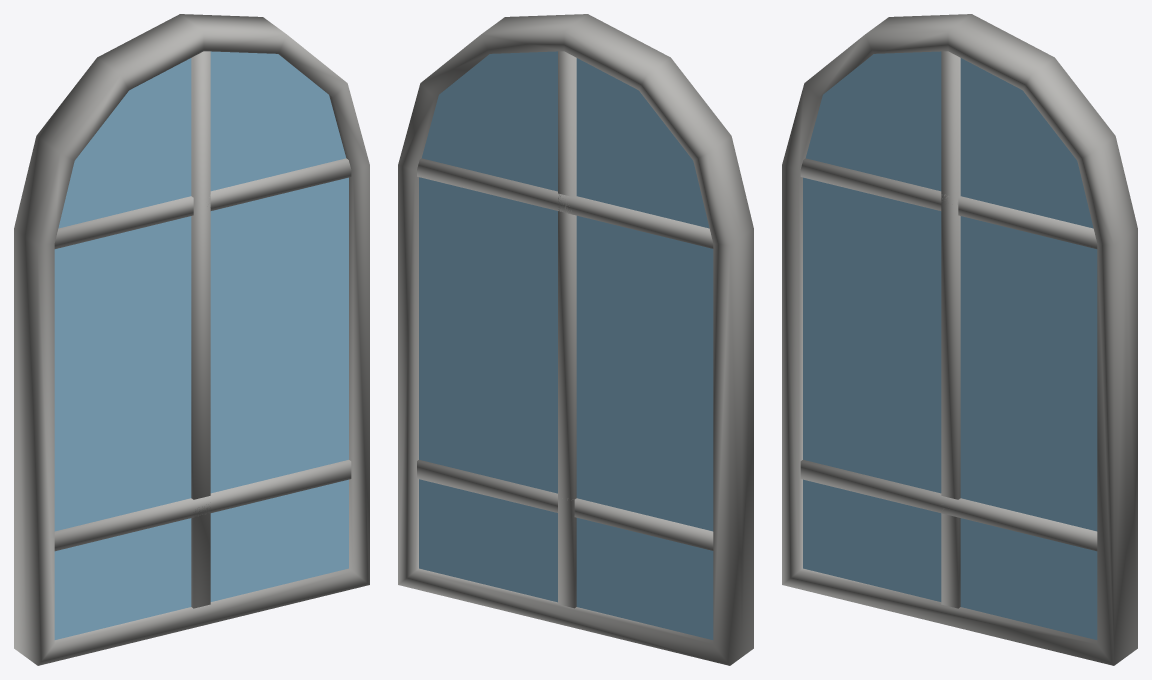
File: Window_Round3.glb
3 renders of one model, left to right at view 1: azimuth 30°, elevation 25°; view 2: azimuth 150°, elevation 25°; view 3: azimuth 330°, elevation 25°, orthographic.
Parts seen in each view (by area): view 1: Window_Round3; view 2: Window_Round3; view 3: Window_Round3.
Part boxes in pixels (left/top/right/bottom): Window_Round3: left=14, top=14, right=369, bottom=665; Window_Round3: left=398, top=14, right=753, bottom=665; Window_Round3: left=782, top=14, right=1137, bottom=665.
Size of the model in its own units: 0.9064 by 1.55 by 0.1126.
